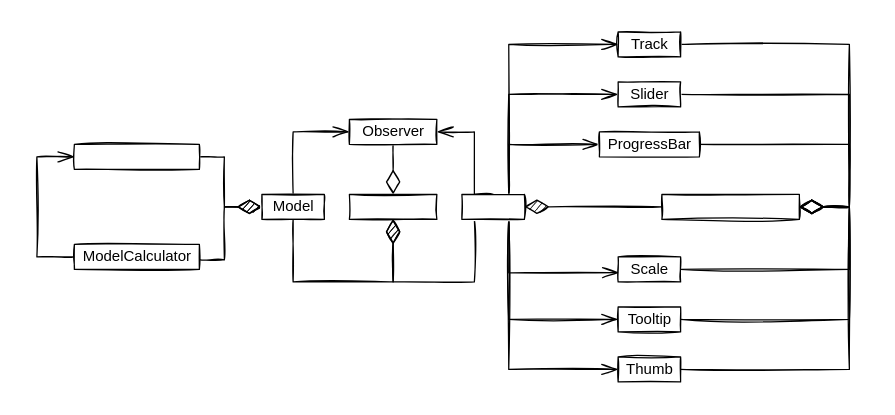
The diagram is 895 pixels wide and 415 high, and some of its shapes have lost their labels. Each missing label, with the box of its shape:
ElementFactory: (661, 193, 799, 219)
ModelData: (73, 143, 199, 169)
Presenter: (348, 193, 437, 219)
View: (461, 193, 524, 219)
